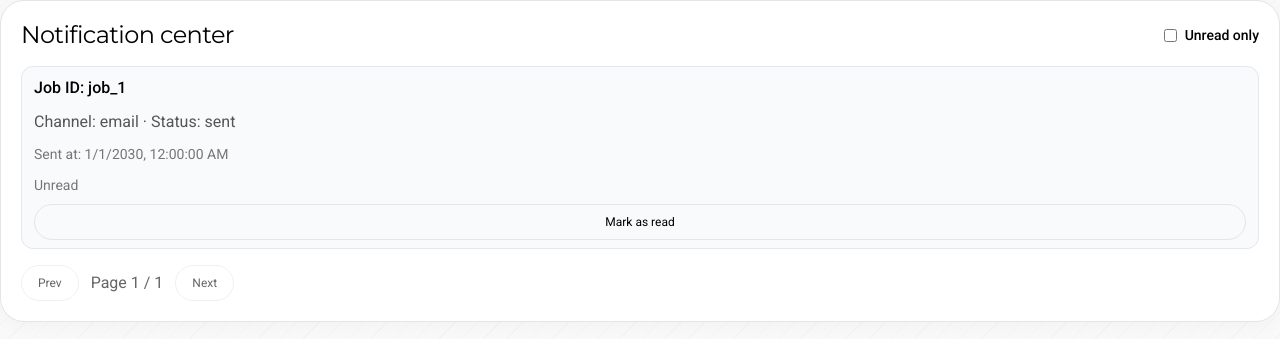
Scenario: AccountNotificationsClient › marks unread notification as read
This screenshot has width=1280, height=339.
Click the button "Mark as read": x=640, y=222 [34,204,1246,240]
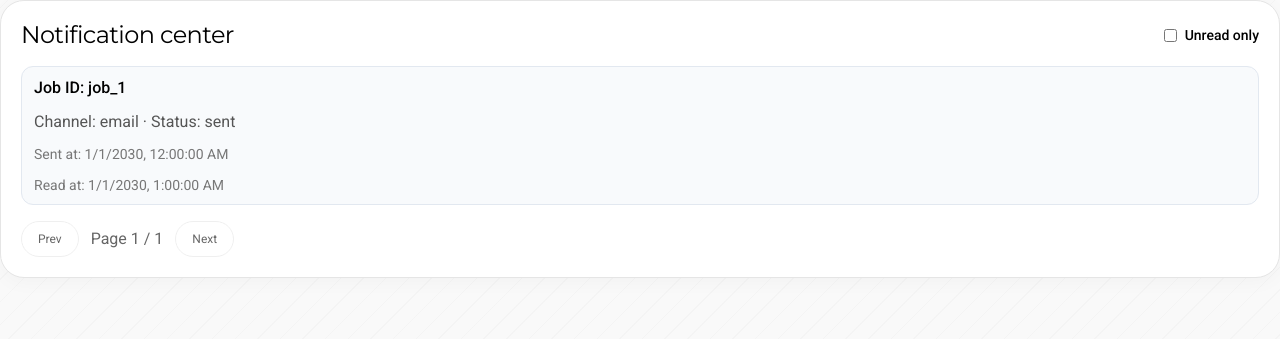
Expected: the text "Read at: 1/1/2030, 1:00:00 AM" is shown, [34,176,224,192]
